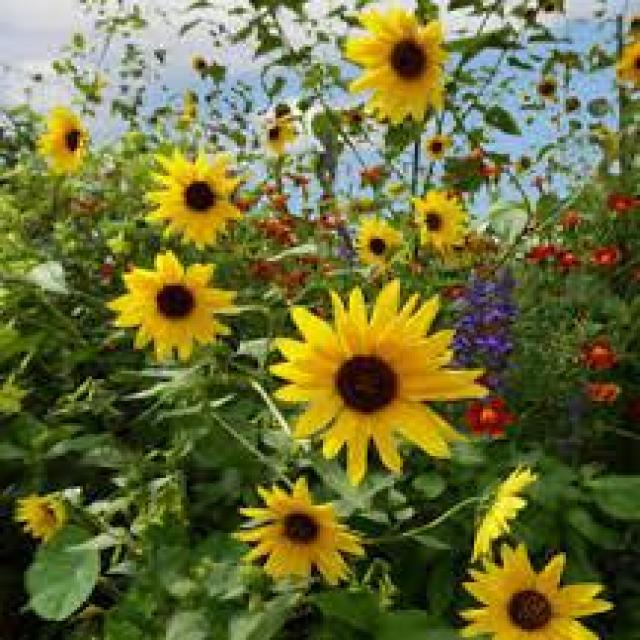organic waste: (287, 278, 492, 472), (324, 7, 461, 122), (455, 541, 612, 635), (113, 256, 237, 366), (236, 480, 360, 588), (147, 155, 259, 246), (414, 178, 482, 250), (36, 110, 98, 176), (345, 207, 399, 276)
